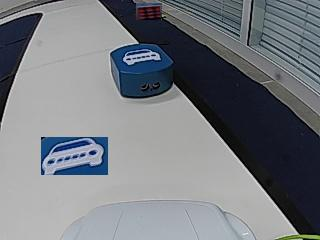safety: (122, 48, 161, 65)
